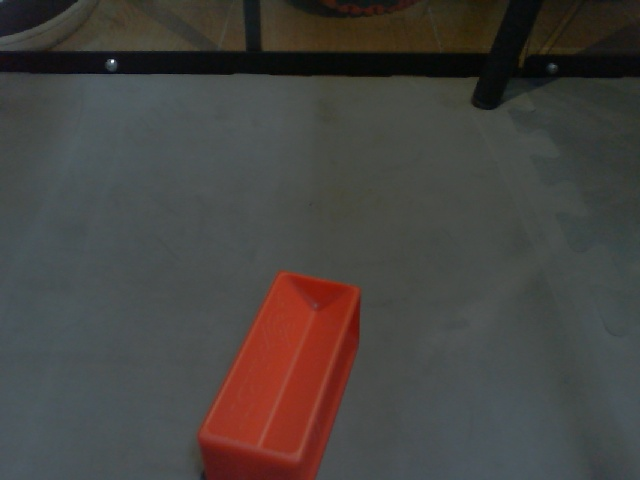RedSample: (194, 269, 362, 480)
